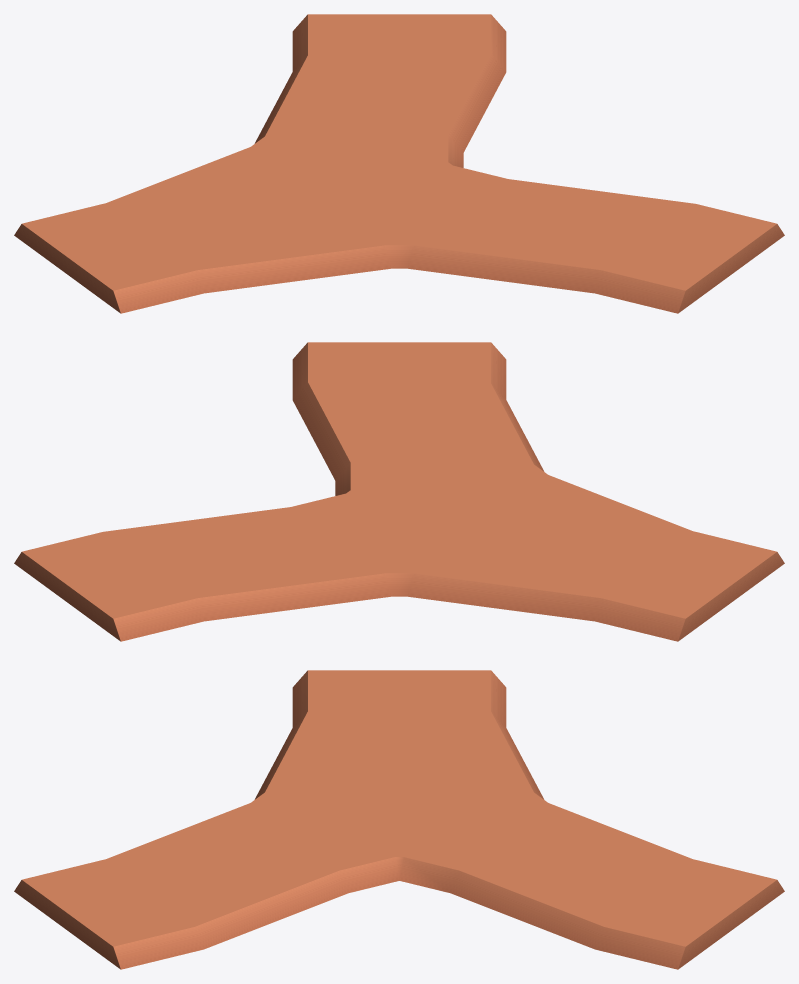
The model's file is path-intersectionF.fbx.
3 views of the same model, one above another, from view 1: azimuth 30°, elevation 25°; view 2: azimuth 150°, elevation 25°; view 3: azimuth 270°, elevation 25° (orthographic).
Visible parts, largest first — view 1: path_intersectionF; view 2: path_intersectionF; view 3: path_intersectionF.
Part boxes in pixels (x1,y1,x2,y2): path_intersectionF: (14,14,784,313); path_intersectionF: (14,342,784,641); path_intersectionF: (14,670,784,969).
Size of the model in its own units: 87.08 by 2.5 by 101.
Materials: 1 (1 with a texture image).
